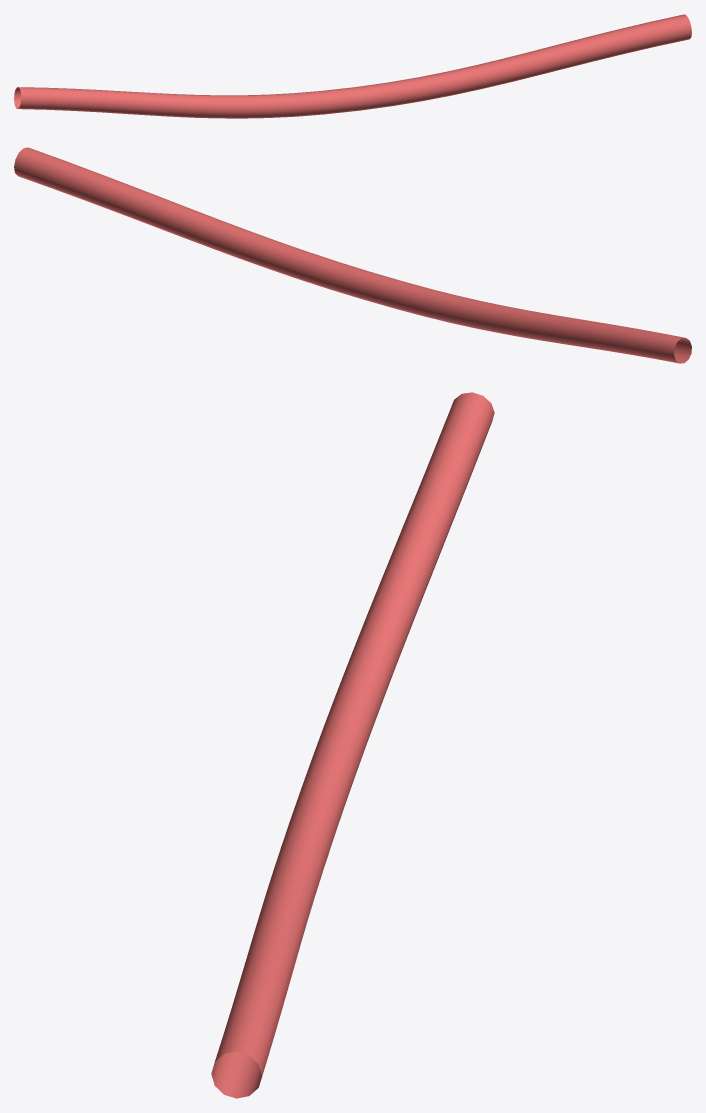
File: Palmar_carpal_branch_of_radial_artery.r_BezierCurve.277.glb
3 renders of one model, top to bottom at view 1: azimuth 30°, elevation 25°; view 2: azimuth 150°, elevation 25°; view 3: azimuth 270°, elevation 25°, orthographic. The views are drawn at different scales.
Parts seen in each view (by area): view 1: Palmar_carpal_branch_of_radial_artery.r_BezierCurve.277; view 2: Palmar_carpal_branch_of_radial_artery.r_BezierCurve.277; view 3: Palmar_carpal_branch_of_radial_artery.r_BezierCurve.277.
Part boxes in pixels (left/top/right/bottom): Palmar_carpal_branch_of_radial_artery.r_BezierCurve.277: left=14, top=14, right=691, bottom=118; Palmar_carpal_branch_of_radial_artery.r_BezierCurve.277: left=14, top=147, right=691, bottom=363; Palmar_carpal_branch_of_radial_artery.r_BezierCurve.277: left=211, top=392, right=494, bottom=1098.
Size of the model in its own units: 0.0273 by 0.00292 by 0.00545.
